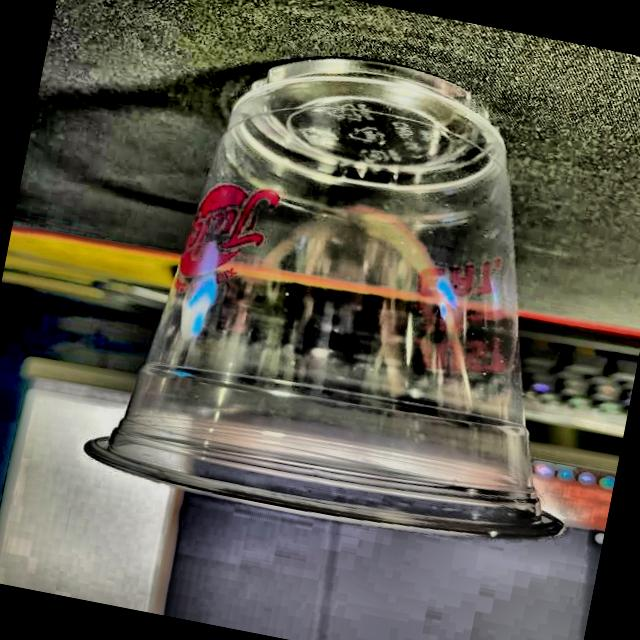plastic cup: (73, 12, 640, 565)
